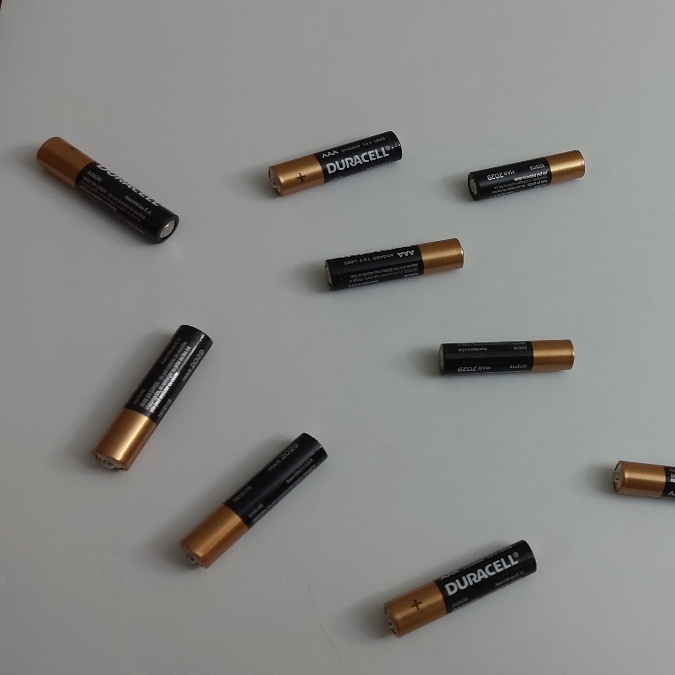battery: (166, 415, 333, 581), (85, 313, 218, 474), (28, 123, 184, 250), (375, 536, 542, 642), (260, 121, 404, 202), (315, 221, 467, 297), (431, 326, 578, 386), (461, 139, 590, 205)
